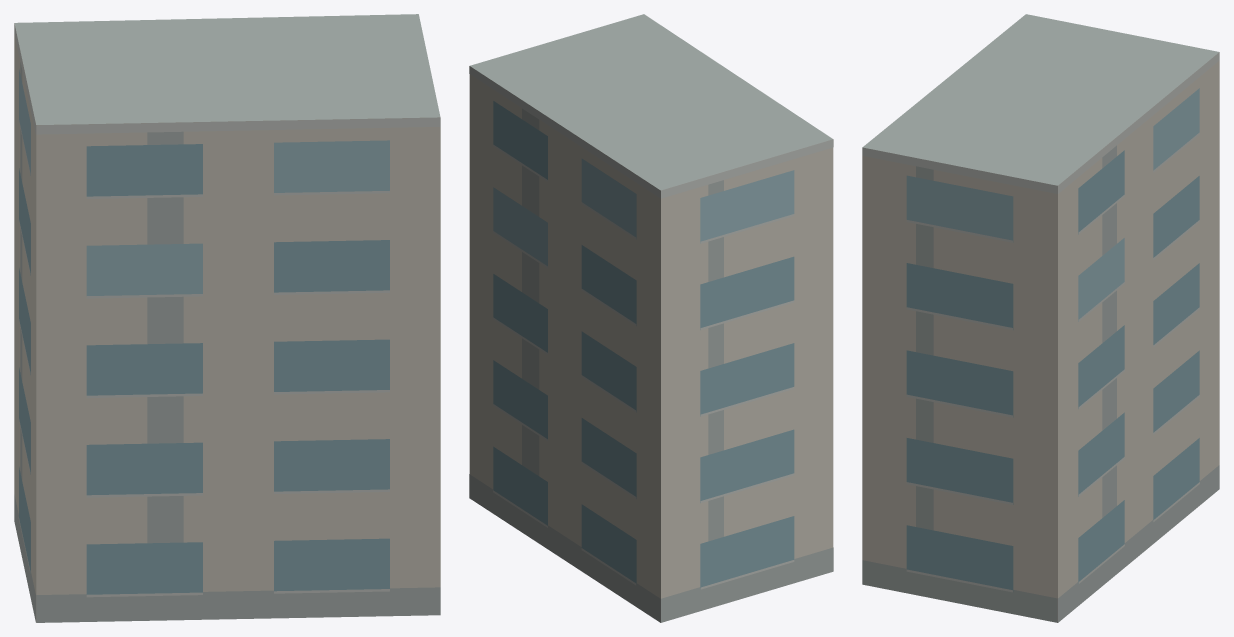
File: survey-upis-32734767.glb
3 views of the same model, side by side, from view 1: azimuth 30°, elevation 25°; view 2: azimuth 150°, elevation 25°; view 3: azimuth 270°, elevation 25° (orthographic). The views are drawn at different scales.
Visible parts, largest first — view 1: survey-upis-32734767.tmp; view 2: survey-upis-32734767.tmp; view 3: survey-upis-32734767.tmp.
Boxes of the visible parts, <box> form: survey-upis-32734767.tmp: <box>14,14,440,622</box>; survey-upis-32734767.tmp: <box>469,14,833,622</box>; survey-upis-32734767.tmp: <box>862,14,1219,622</box>.
Bounding box in the file's own units: 10.8 × 12.8 × 9.49.
